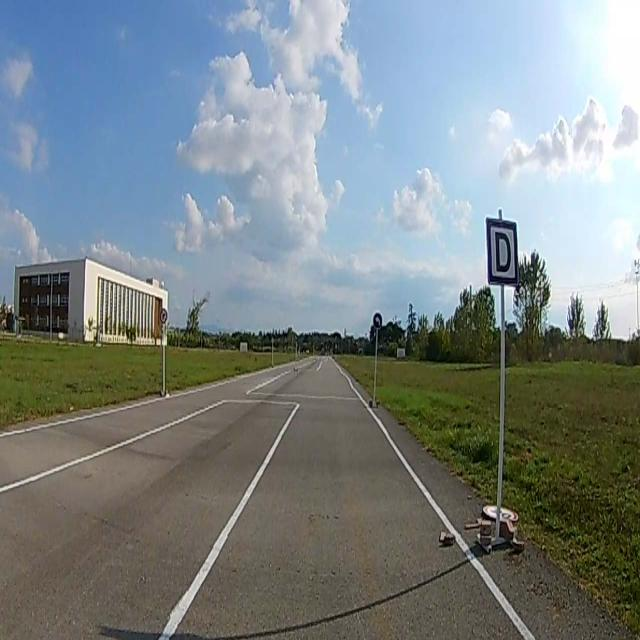durak: (484, 218, 520, 285)
